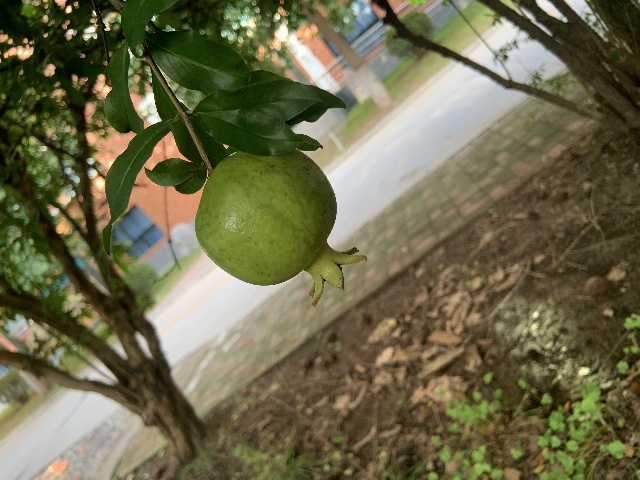mid-growth: (194, 148, 367, 306)
